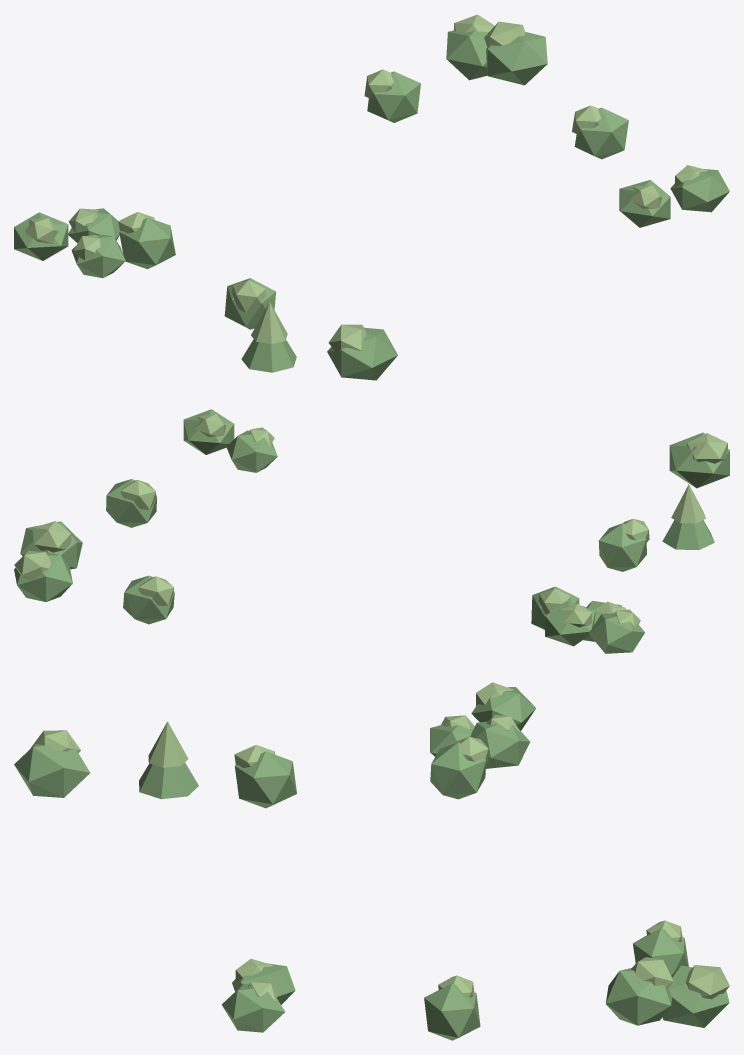
Rendered from wetland_pools_wind_canopies.fbx.
The picture shows the model from 3 angles, top to bottom: view 1: azimuth 30°, elevation 25°; view 2: azimuth 150°, elevation 25°; view 3: azimuth 270°, elevation 25°; orthographic projection. The views are drawn at different scales.
Parts seen in each view (by area): view 1: chunk_wetland_pools__tree_canopy_23, chunk_wetland_pools__tree_canopy_12, chunk_wetland_pools__tree_canopy_08, chunk_wetland_pools__tree_canopy_24, chunk_wetland_pools__tree_canopy_16, chunk_wetland_pools__tree_canopy_26, chunk_wetland_pools__tree_canopy_19, chunk_wetland_pools__tree_canopy_02, chunk_wetland_pools__tree_canopy_06, chunk_wetland_pools__tree_canopy_18, chunk_wetland_pools__tree_canopy_04, chunk_wetland_pools__tree_canopy_10 (+8 smaller); view 2: chunk_wetland_pools__tree_canopy_12, chunk_wetland_pools__tree_canopy_10, chunk_wetland_pools__tree_canopy_19, chunk_wetland_pools__tree_canopy_02, chunk_wetland_pools__tree_canopy_18, chunk_wetland_pools__tree_canopy_16, chunk_wetland_pools__tree_canopy_24, chunk_wetland_pools__tree_canopy_26, chunk_wetland_pools__tree_canopy_14, chunk_wetland_pools__tree_canopy_06, chunk_wetland_pools__tree_canopy_22, chunk_wetland_pools__tree_canopy_11 (+10 smaller); view 3: chunk_wetland_pools__tree_canopy_12, chunk_wetland_pools__tree_canopy_23, chunk_wetland_pools__tree_canopy_10, chunk_wetland_pools__tree_canopy_24, chunk_wetland_pools__tree_canopy_08, chunk_wetland_pools__tree_canopy_19, chunk_wetland_pools__tree_canopy_26, chunk_wetland_pools__tree_canopy_14, chunk_wetland_pools__tree_canopy_06, chunk_wetland_pools__tree_canopy_16, chunk_wetland_pools__tree_canopy_02, chunk_wetland_pools__tree_canopy_20 (+5 smaller).
Part boxes in pixels (bbox=[...]): chunk_wetland_pools__tree_canopy_23: bbox=[486, 32, 547, 85]; chunk_wetland_pools__tree_canopy_12: bbox=[327, 327, 397, 380]; chunk_wetland_pools__tree_canopy_08: bbox=[119, 217, 175, 269]; chunk_wetland_pools__tree_canopy_24: bbox=[574, 107, 628, 159]; chunk_wetland_pools__tree_canopy_16: bbox=[367, 71, 420, 122]; chunk_wetland_pools__tree_canopy_26: bbox=[670, 169, 729, 212]; chunk_wetland_pools__tree_canopy_19: bbox=[446, 30, 488, 80]; chunk_wetland_pools__tree_canopy_02: bbox=[14, 212, 68, 260]; chunk_wetland_pools__tree_canopy_06: bbox=[241, 339, 296, 372]; chunk_wetland_pools__tree_canopy_18: bbox=[619, 180, 670, 227]; chunk_wetland_pools__tree_canopy_04: bbox=[71, 234, 125, 278]; chunk_wetland_pools__tree_canopy_10: bbox=[224, 278, 276, 329]; chunk_wetland_pools__tree_canopy_12: bbox=[669, 432, 729, 488]; chunk_wetland_pools__tree_canopy_10: bbox=[598, 523, 646, 571]; chunk_wetland_pools__tree_canopy_19: bbox=[14, 551, 72, 601]; chunk_wetland_pools__tree_canopy_02: bbox=[588, 613, 644, 653]; chunk_wetland_pools__tree_canopy_18: bbox=[226, 430, 277, 472]; chunk_wetland_pools__tree_canopy_16: bbox=[123, 575, 174, 624]; chunk_wetland_pools__tree_canopy_24: bbox=[106, 479, 156, 527]; chunk_wetland_pools__tree_canopy_26: bbox=[183, 409, 234, 454]; chunk_wetland_pools__tree_canopy_14: bbox=[545, 600, 595, 646]; chunk_wetland_pools__tree_canopy_06: bbox=[662, 520, 714, 549]; chunk_wetland_pools__tree_canopy_22: bbox=[32, 521, 71, 552]; chunk_wetland_pools__tree_canopy_11: bbox=[687, 433, 727, 463]; chunk_wetland_pools__tree_canopy_12: bbox=[14, 741, 90, 797]; chunk_wetland_pools__tree_canopy_23: bbox=[605, 968, 672, 1025]; chunk_wetland_pools__tree_canopy_10: bbox=[235, 751, 296, 808]; chunk_wetland_pools__tree_canopy_24: bbox=[424, 983, 480, 1040]; chunk_wetland_pools__tree_canopy_08: bbox=[430, 742, 486, 799]; chunk_wetland_pools__tree_canopy_19: bbox=[662, 965, 729, 1027]; chunk_wetland_pools__tree_canopy_26: bbox=[221, 984, 284, 1032]; chunk_wetland_pools__tree_canopy_14: bbox=[470, 721, 530, 768]; chunk_wetland_pools__tree_canopy_06: bbox=[139, 763, 198, 799]; chunk_wetland_pools__tree_canopy_16: bbox=[633, 928, 688, 975]; chunk_wetland_pools__tree_canopy_02: bbox=[471, 687, 535, 730]; chunk_wetland_pools__tree_canopy_20: bbox=[685, 965, 729, 999].
Bounding box in the file's own units: 214 × 26.11 × 204.
